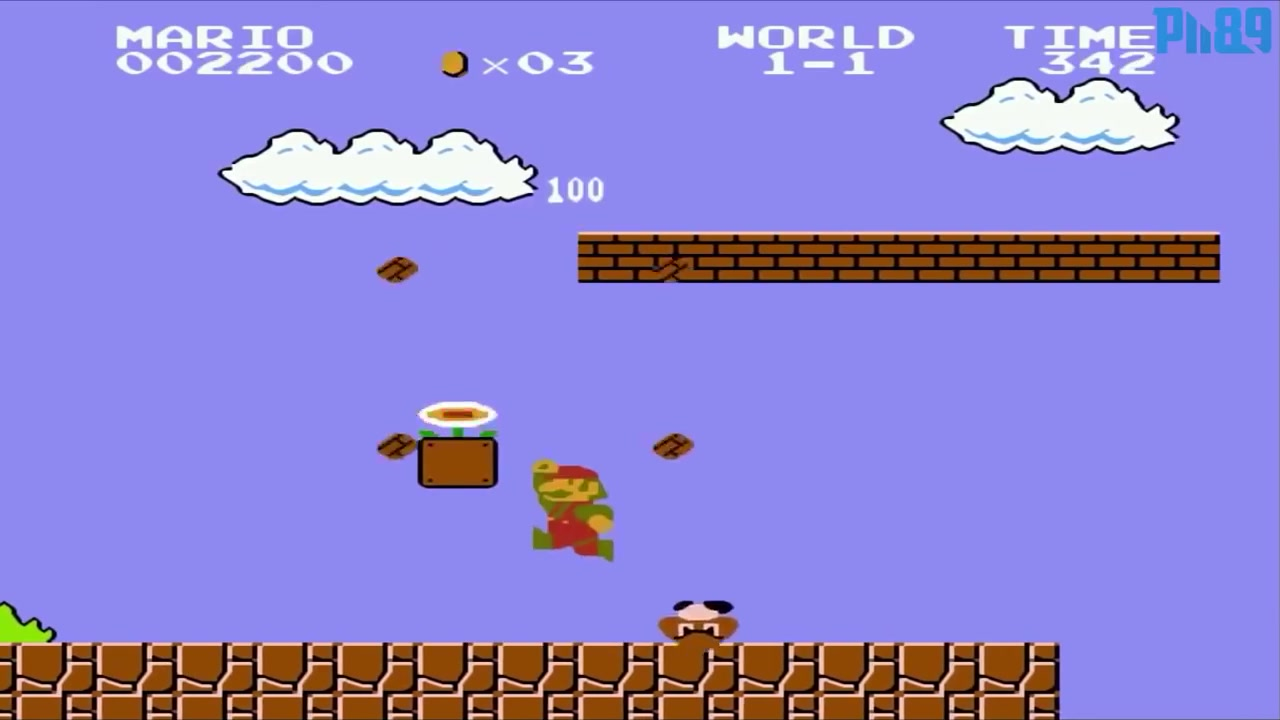mario: (521, 452, 623, 576)
